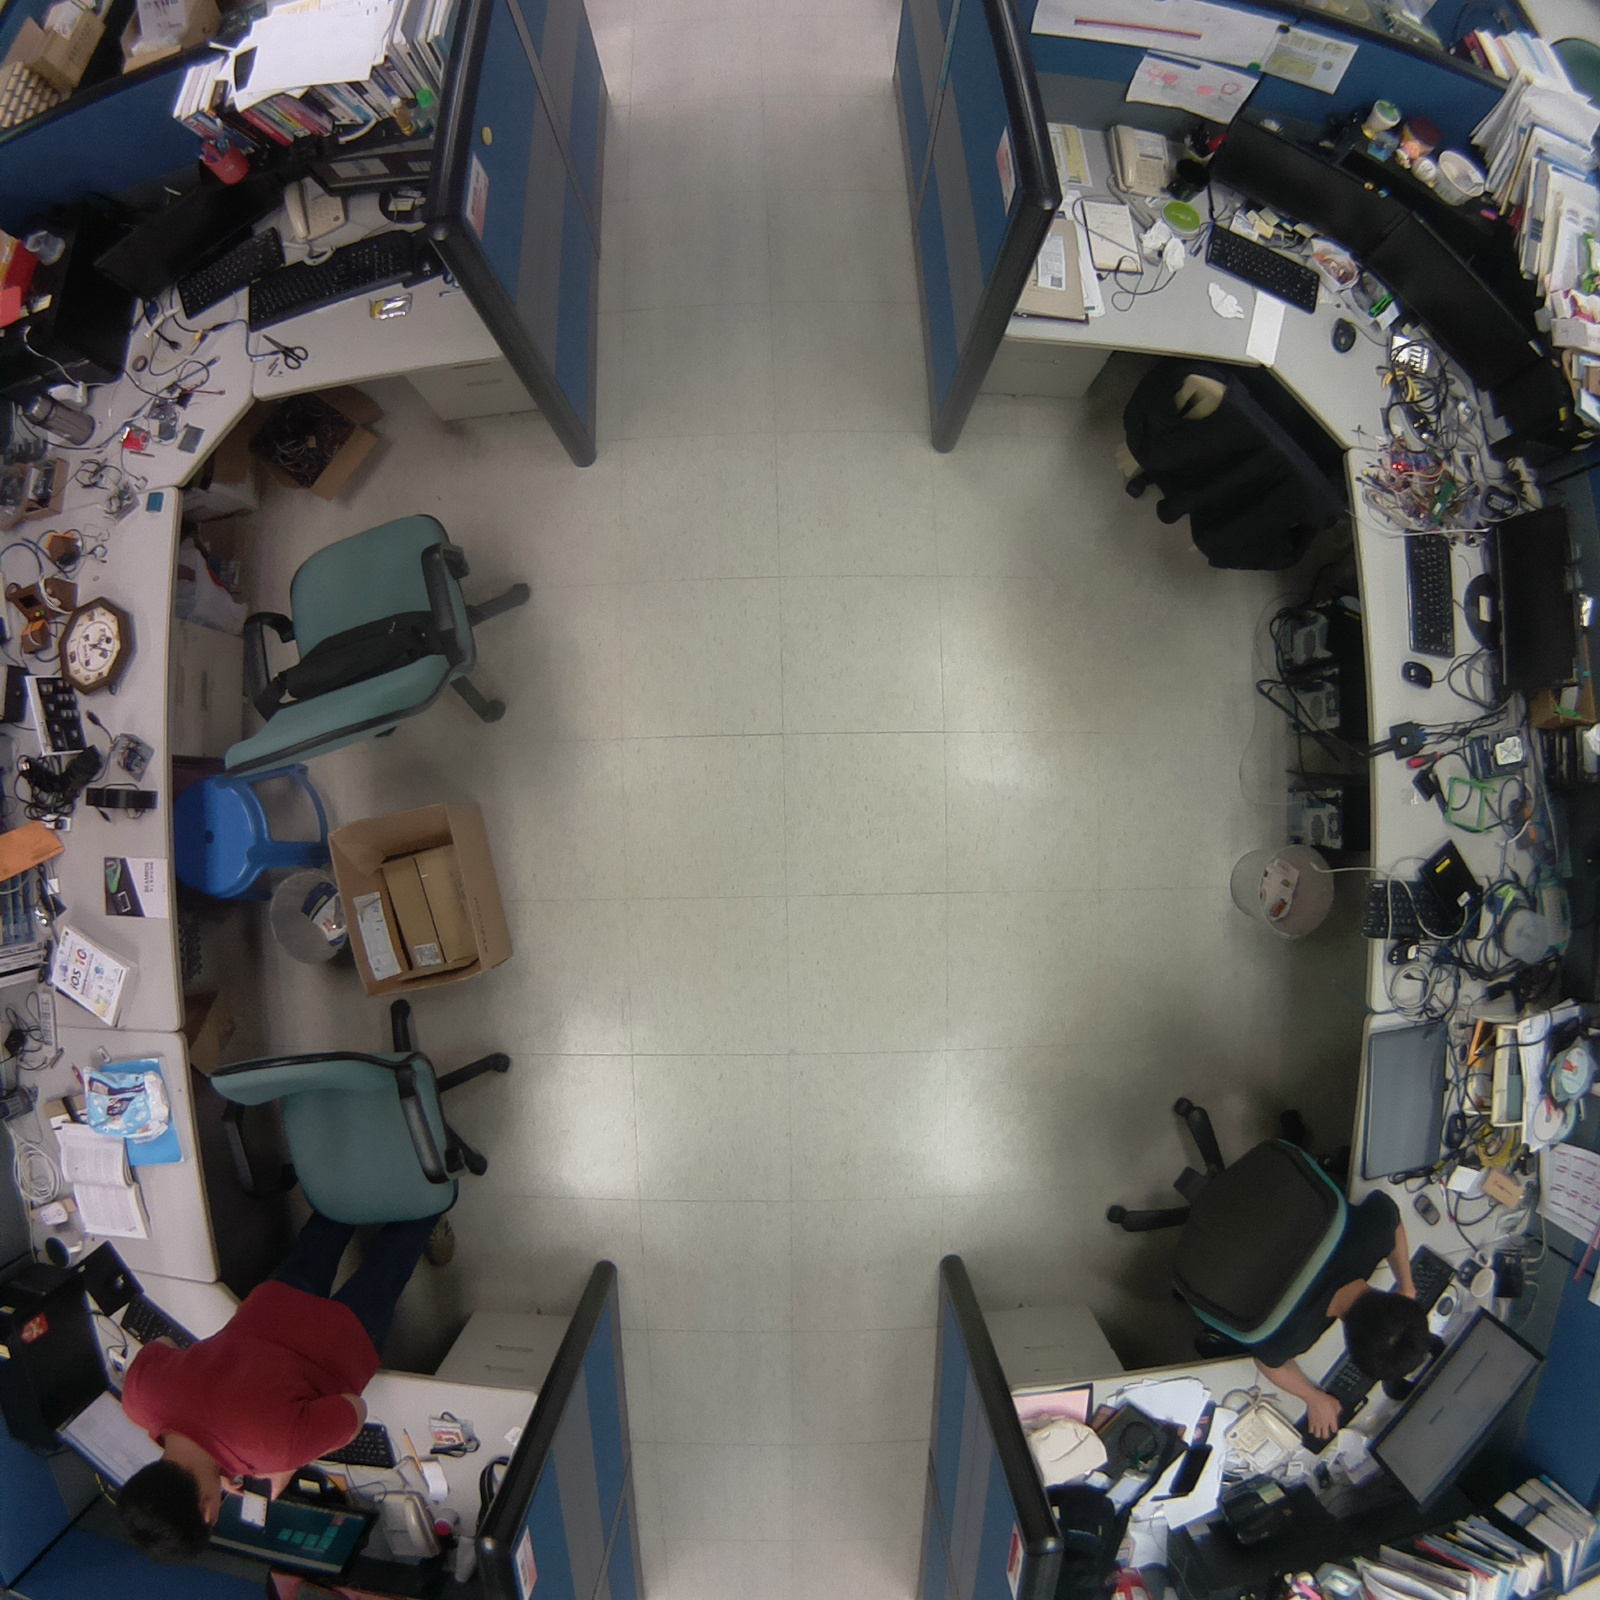chair: (212, 491, 558, 791), (194, 973, 527, 1240), (1106, 329, 1378, 583)
head: (111, 1455, 229, 1569), (1337, 1286, 1443, 1394)
sitting: (95, 1188, 478, 1589), (1091, 1073, 1450, 1443)
